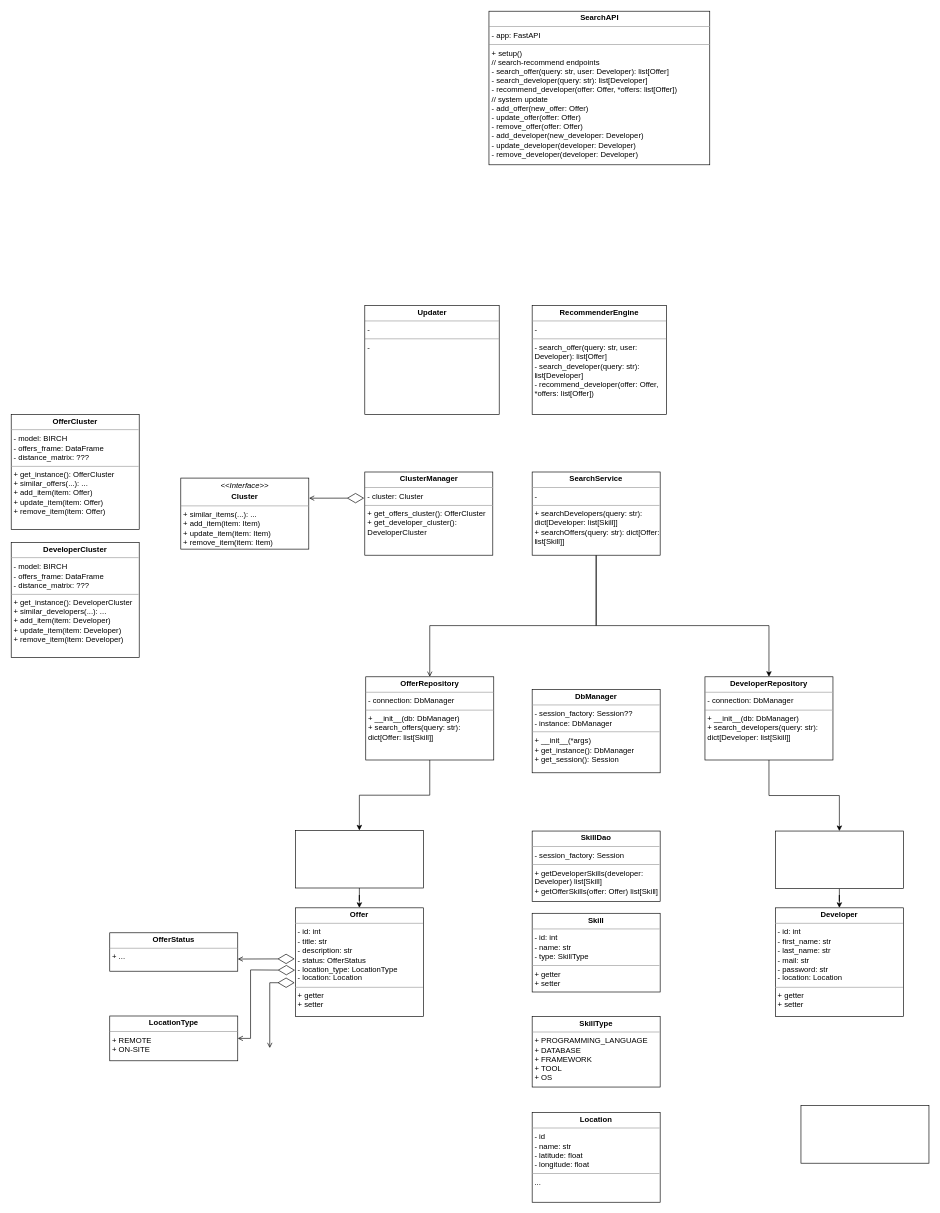
Some shapes in this 940 by 1213 pixel diagram are drawn without their labels. Here are the shapes that lost their labels. From the top down, the centre of each, then its label:
(x=359, y=859): OfferDao - session_factory: Session +
(x=839, y=859): DeveloperDao - session_factory: Session + __init__(session)
(x=864, y=1134): LocationDao - session_factory: Session + __init__(session)
